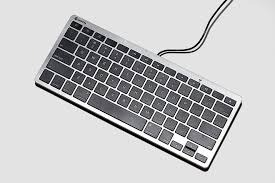keyboard: (35, 14, 241, 175)
